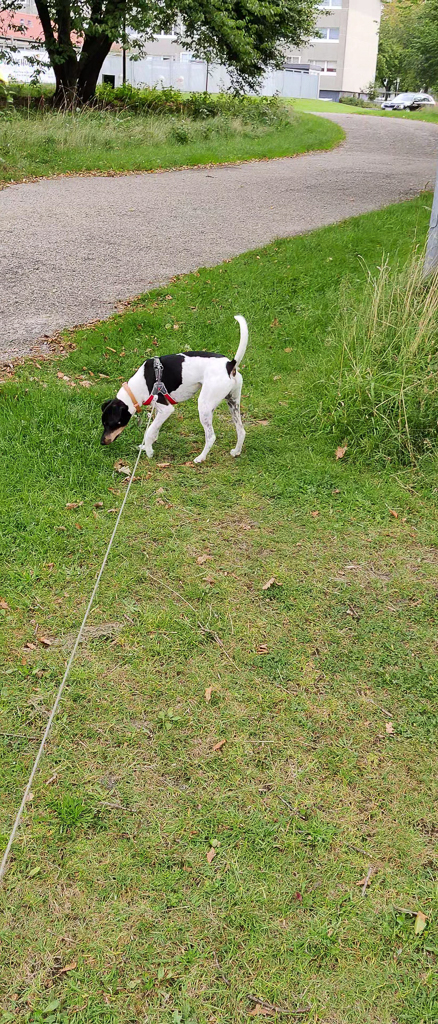Dog: (88, 307, 262, 472)
